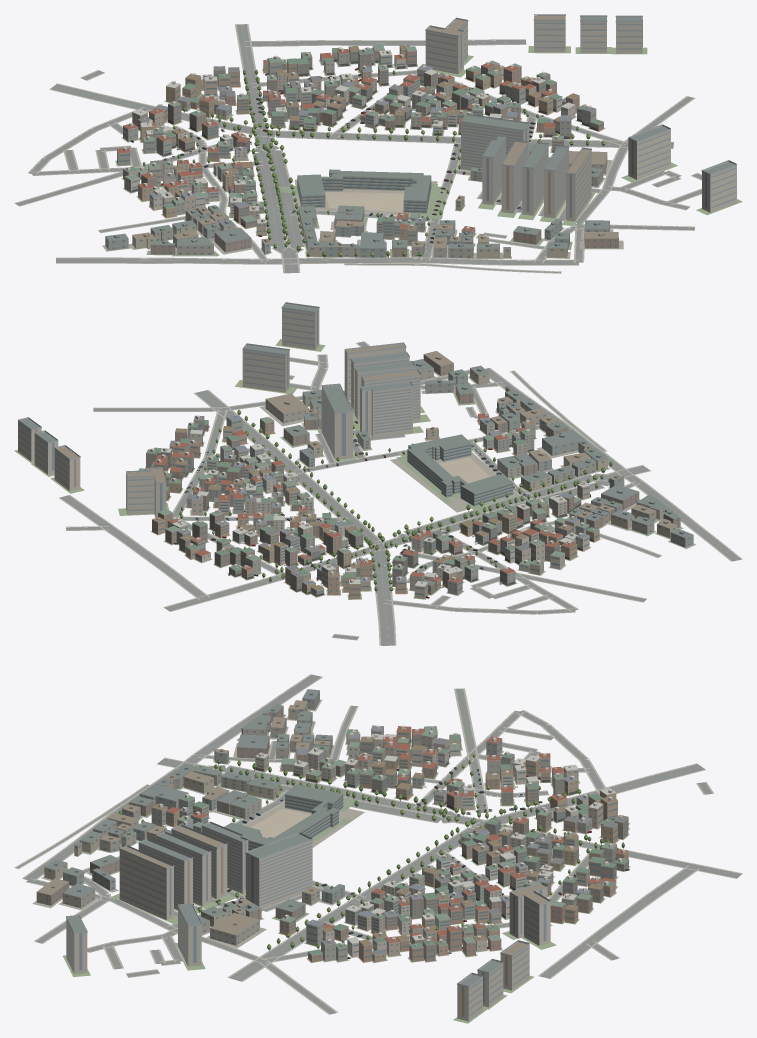
3 renders of one model, top to bottom at view 1: azimuth 30°, elevation 25°; view 2: azimuth 150°, elevation 25°; view 3: azimuth 270°, elevation 25°, orthographic. The views are drawn at different scales.
Visible parts, largest first — view 1: context-villa-infill, context-osm-buildings, context-osm-roads, context-osm-sidewalks, context-building-plinths; view 2: context-villa-infill, context-osm-buildings, context-osm-roads, context-osm-sidewalks, context-building-plinths; view 3: context-villa-infill, context-osm-buildings, context-osm-roads, context-osm-sidewalks, context-building-plinths.
Boxes of the visible parts, x1,y1,x2,y2 form: context-villa-infill: [115, 44, 605, 257]; context-osm-buildings: [105, 14, 736, 258]; context-osm-roads: [15, 24, 701, 273]; context-osm-sidewalks: [14, 24, 701, 273]; context-building-plinths: [102, 46, 742, 258]; context-villa-infill: [138, 409, 612, 599]; context-osm-buildings: [18, 302, 693, 547]; context-osm-roads: [60, 341, 740, 645]; context-osm-sidewalks: [59, 341, 742, 645]; context-building-plinths: [14, 339, 696, 548]; context-villa-infill: [118, 725, 630, 963]; context-osm-buildings: [36, 689, 550, 1021]; context-osm-roads: [16, 674, 741, 1014]; context-osm-sidewalks: [14, 674, 742, 1014]; context-building-plinths: [32, 699, 556, 1023].
Bounding box in the file's own units: 673 × 47.87 × 592.
